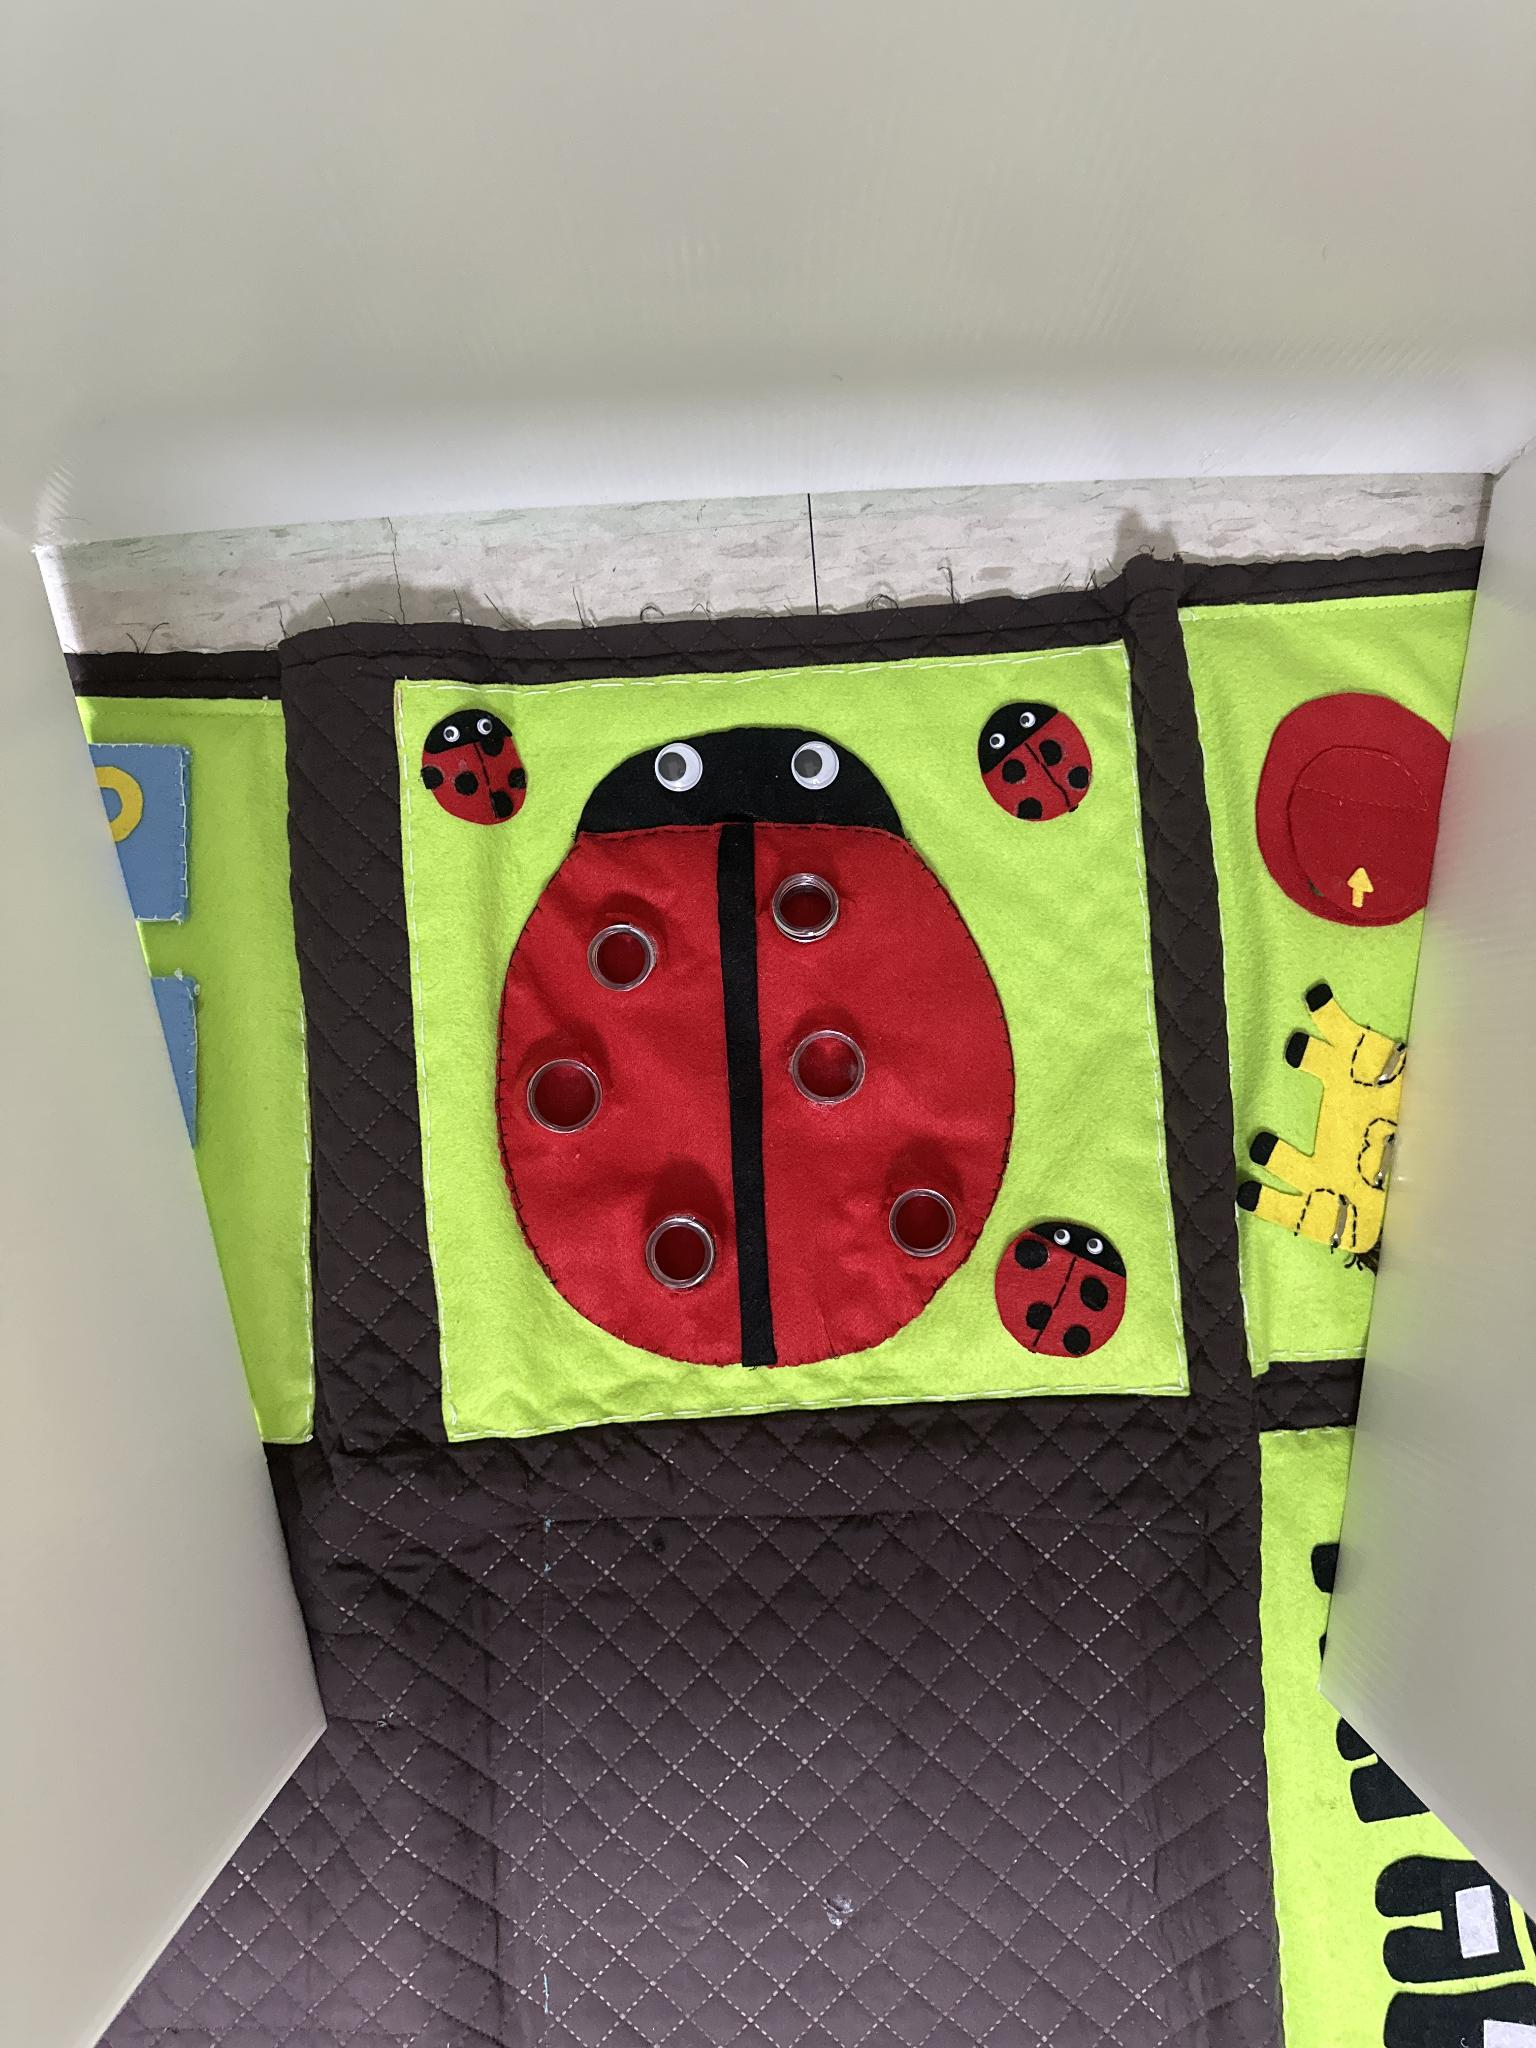hole: (584, 916, 662, 997), (650, 1211, 721, 1290), (889, 1195, 954, 1261), (539, 1058, 595, 1130), (802, 1032, 860, 1101), (778, 874, 833, 940)
ladybug_case: (503, 727, 1015, 1374)
